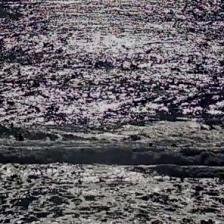surfer: (17, 133, 25, 141), (6, 100, 15, 106), (28, 10, 34, 16), (27, 4, 32, 10)
